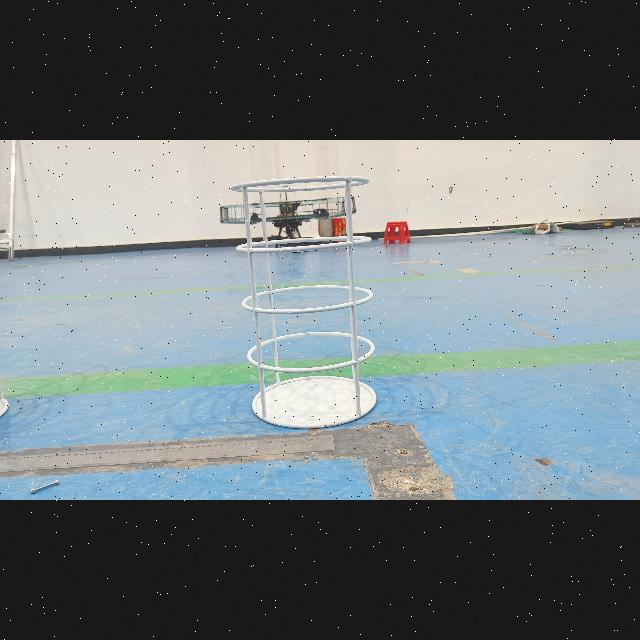S: (232, 172, 386, 432)
